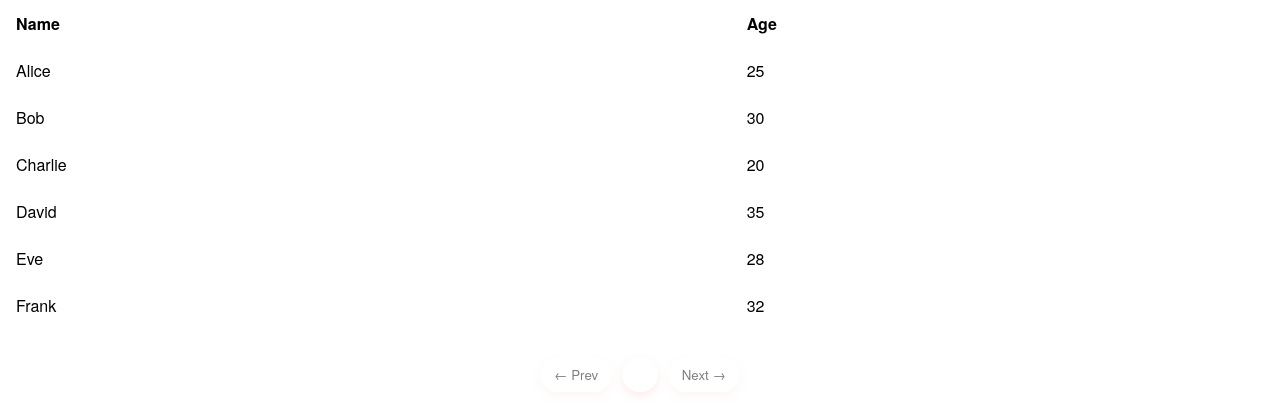
Test: JazzieTable Component › sorts by column ascending and descending
Click the column heading "Age" at (762, 24), box [731, 0, 1279, 47]
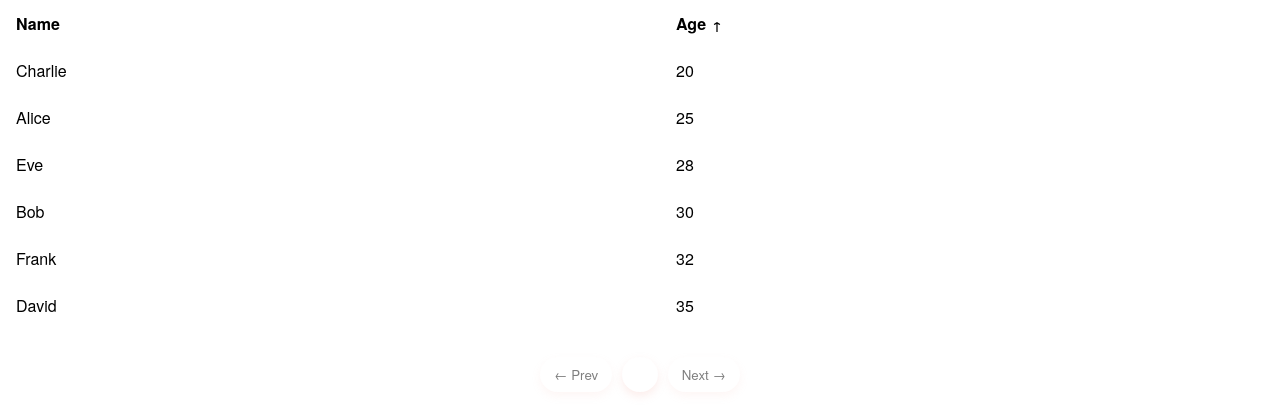
Now the row "Charlie 20" is shown, box [0, 47, 1279, 94]
Click the column heading "Age" at (691, 24), box [660, 0, 1279, 47]
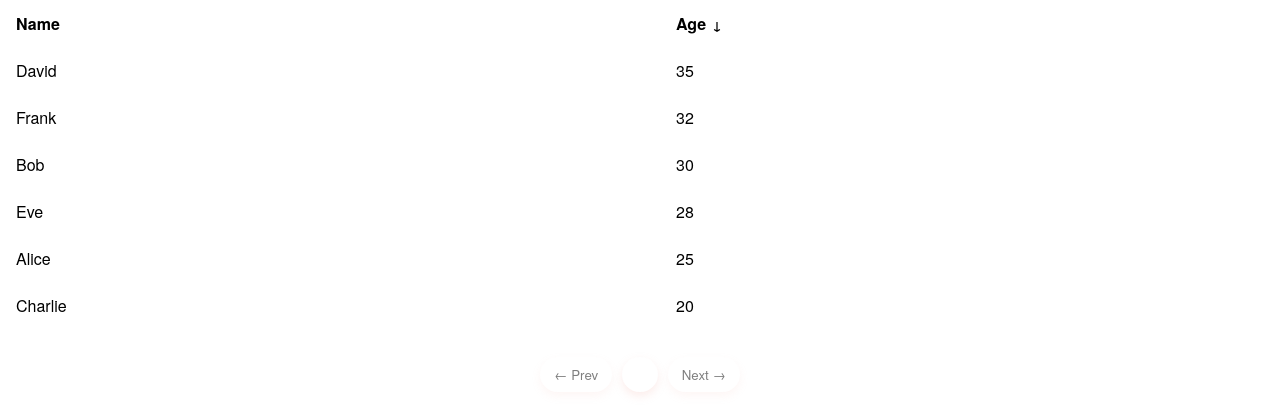
Now the row "David 35" is shown, box [0, 47, 1279, 94]
